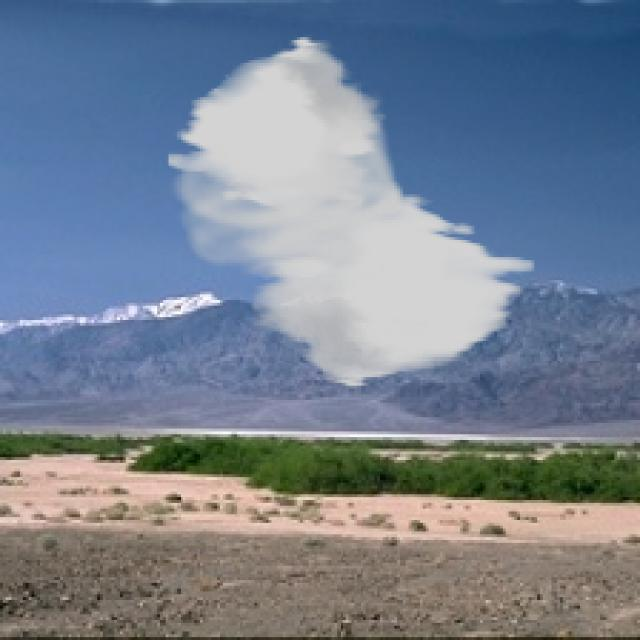smoke: (166, 34, 534, 389)
